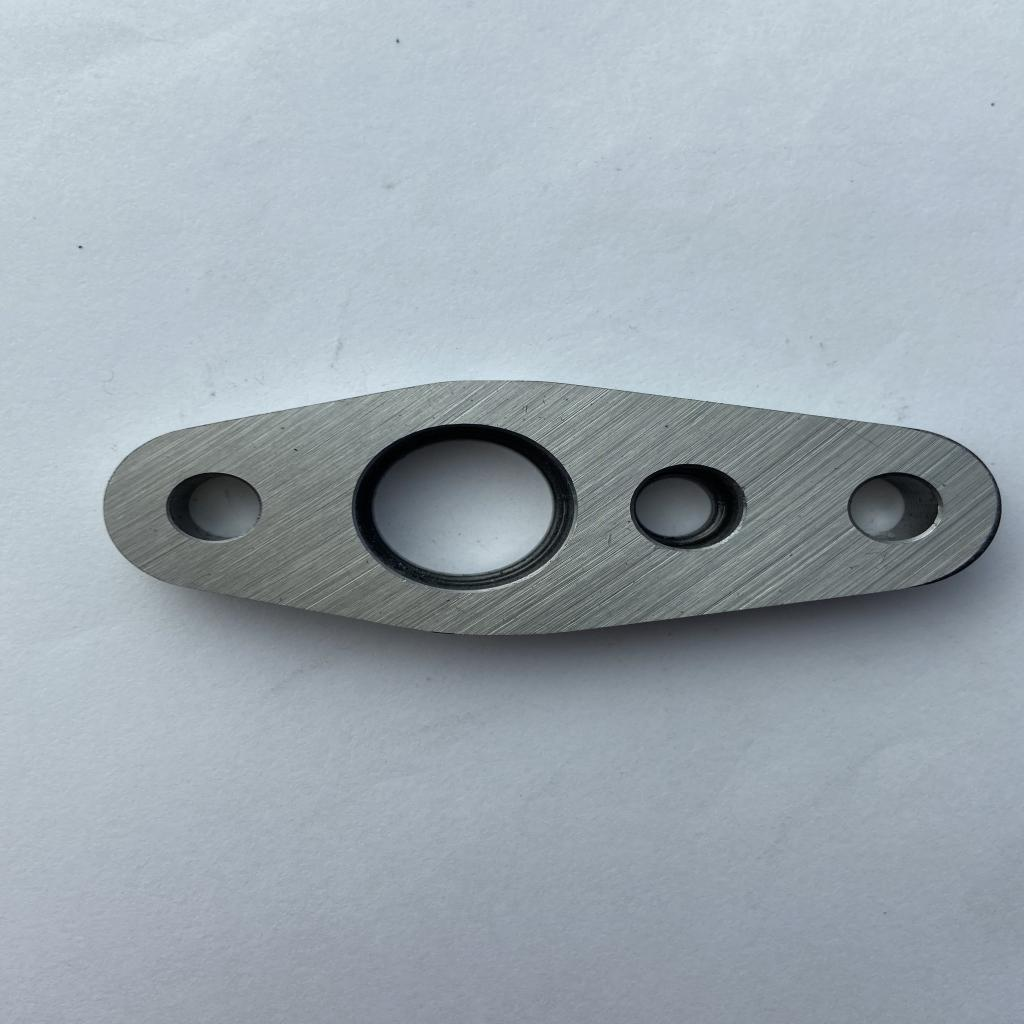chap: (400, 578, 409, 584)
lines: (831, 419, 883, 452)
